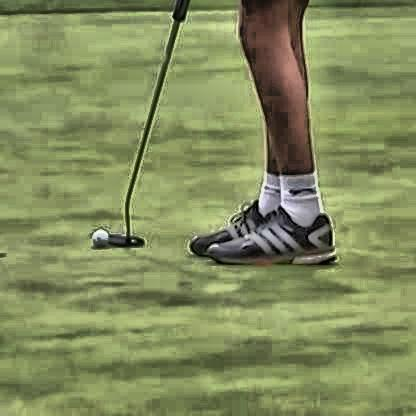golfball: (90, 225, 108, 244)
